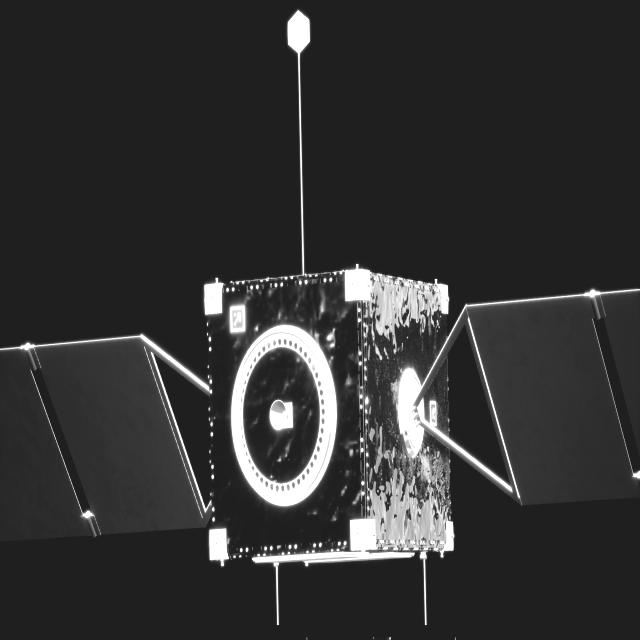satellite: (0, 269, 640, 559)
